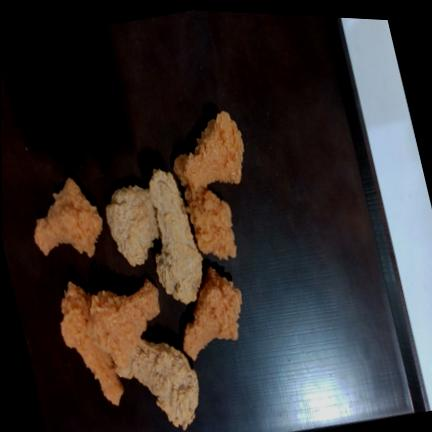chicken: (61, 282, 123, 405), (149, 170, 202, 303), (89, 279, 160, 372), (174, 155, 236, 259), (132, 339, 199, 429), (183, 266, 242, 360), (35, 178, 102, 257), (185, 111, 244, 190), (106, 185, 159, 265)
